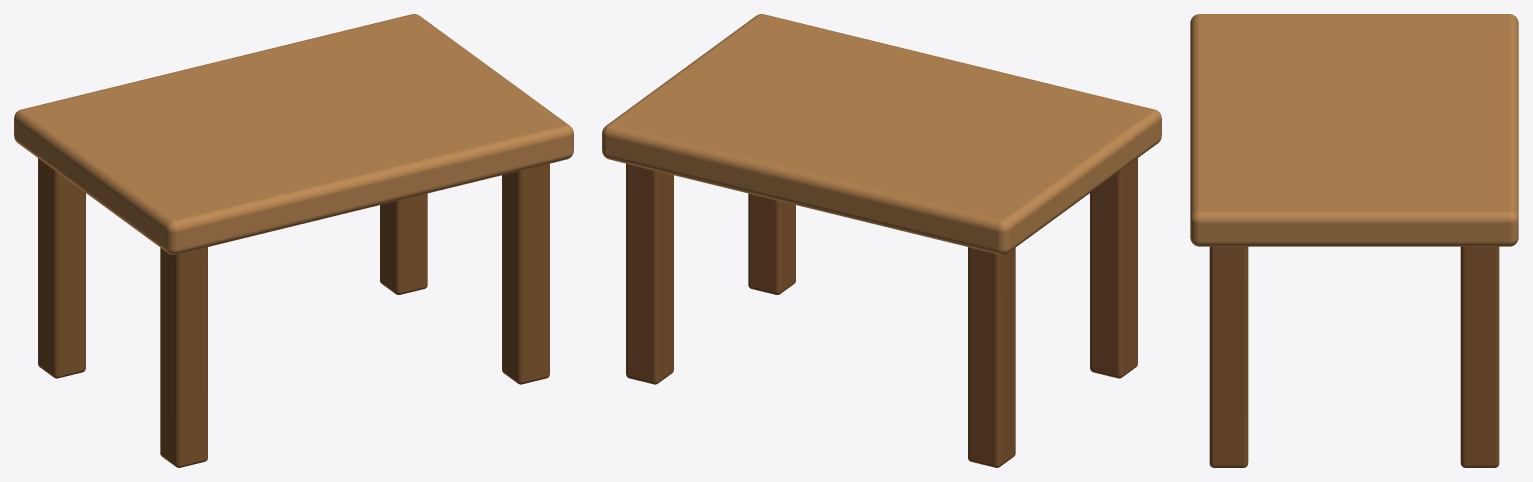
Rendered from table.glb.
3 views of the same model, side by side, from view 1: azimuth 30°, elevation 25°; view 2: azimuth 150°, elevation 25°; view 3: azimuth 270°, elevation 25° (orthographic). The views are drawn at different scales.
Parts seen in each view (by area): view 1: Top, Leg (×4); view 2: Top, Leg (×4); view 3: Top, Leg (×2).
Part boxes in pixels (box(x1,y1,x2,y2)): Top: box(14, 14, 573, 254); Leg (×4): box(38, 158, 549, 467); Top: box(602, 14, 1161, 254); Leg (×4): box(626, 158, 1137, 467); Top: box(1190, 14, 1518, 246); Leg (×2): box(1209, 246, 1499, 467).
Bounding box in the file's own units: 0.5 × 0.3 × 0.34.
